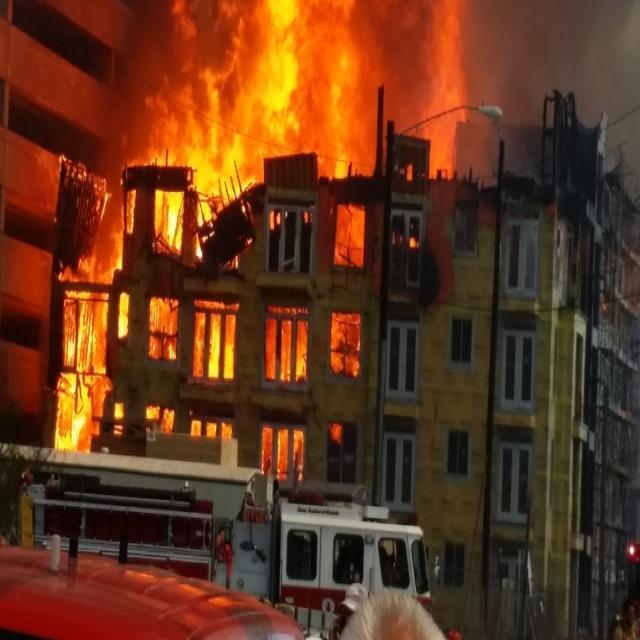Smoke: (116, 0, 476, 258)
